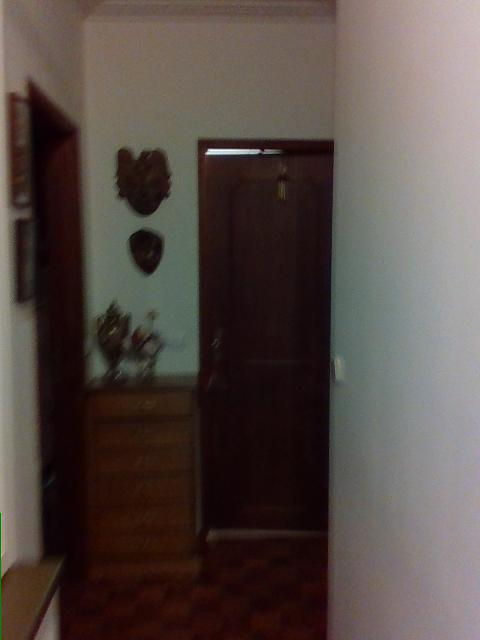door: (197, 138, 331, 530), (27, 73, 86, 562)
